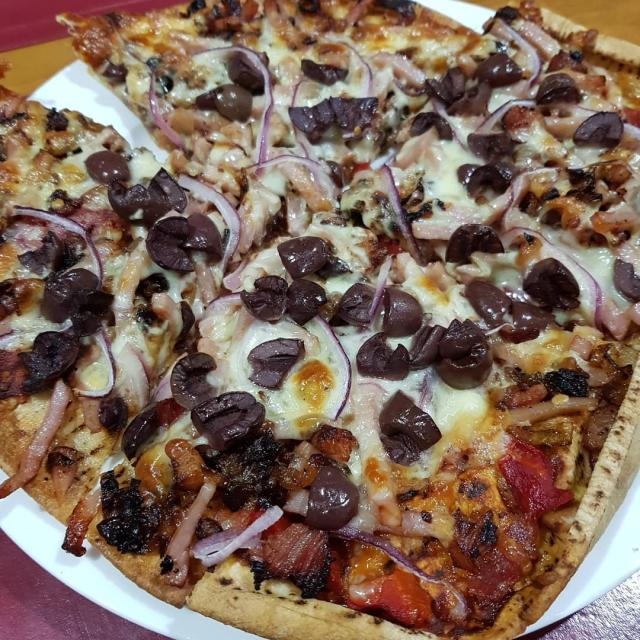black_olives: (463, 280, 544, 341), (195, 390, 267, 450), (378, 395, 437, 464), (300, 465, 360, 531), (440, 315, 492, 390), (248, 337, 304, 392), (330, 92, 389, 142), (147, 216, 195, 276), (527, 257, 580, 311), (379, 280, 424, 340), (200, 82, 264, 123), (119, 409, 169, 457), (226, 52, 281, 95), (278, 234, 331, 278), (572, 107, 626, 150), (448, 224, 500, 267), (288, 99, 336, 145), (359, 335, 411, 377), (49, 271, 92, 320), (172, 355, 210, 409), (240, 278, 290, 319), (338, 280, 378, 329), (473, 52, 523, 90), (29, 333, 70, 379), (301, 56, 350, 94), (602, 255, 640, 304), (461, 164, 508, 202), (535, 70, 582, 106), (466, 123, 512, 159), (421, 73, 468, 107), (85, 149, 129, 182), (412, 109, 456, 142), (294, 282, 324, 320)
pizza: (0, 0, 640, 640)
